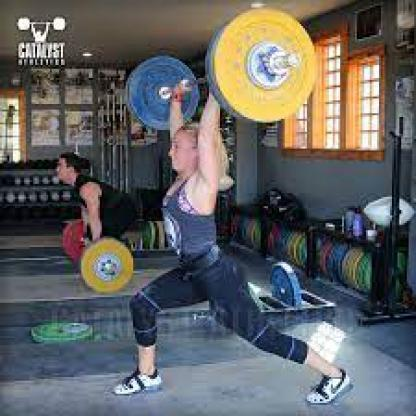barbell: (123, 5, 318, 132), (59, 217, 135, 294)
